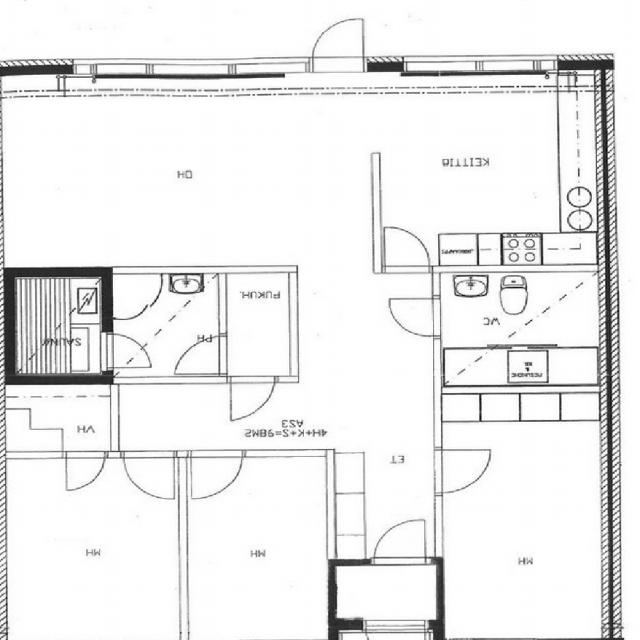door: (312, 11, 363, 70), (368, 513, 420, 564), (188, 449, 239, 500), (428, 450, 488, 492), (120, 449, 169, 499), (383, 298, 437, 336), (229, 378, 273, 422), (383, 228, 426, 273), (173, 339, 224, 375), (101, 333, 150, 368), (64, 449, 102, 489), (358, 619, 418, 640)
